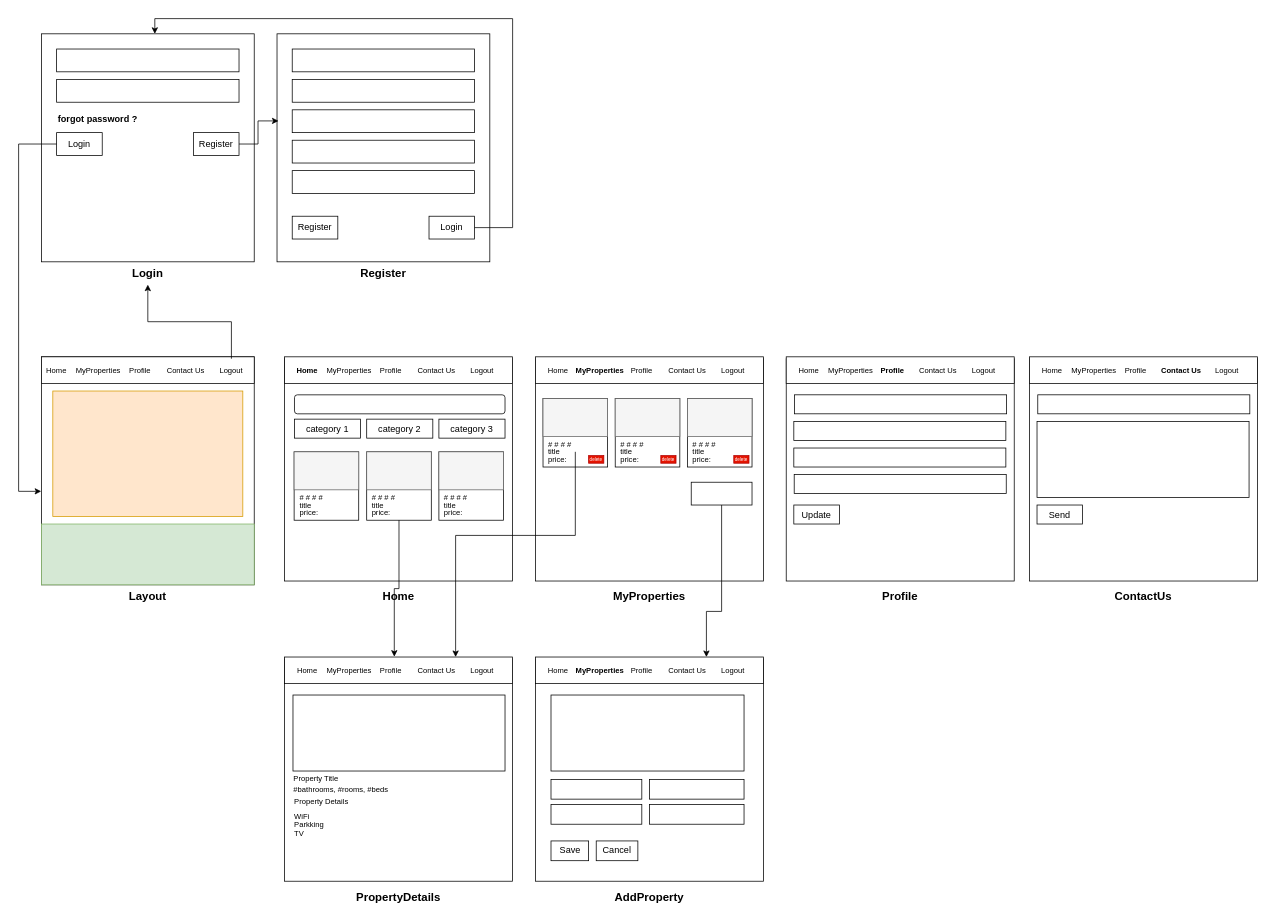
Image size: 1271x921. Some labels were removed from this diagram. Each missing label, with the box of its shape:
Add Property: (690, 481, 752, 505)
search properties: (294, 394, 505, 414)
